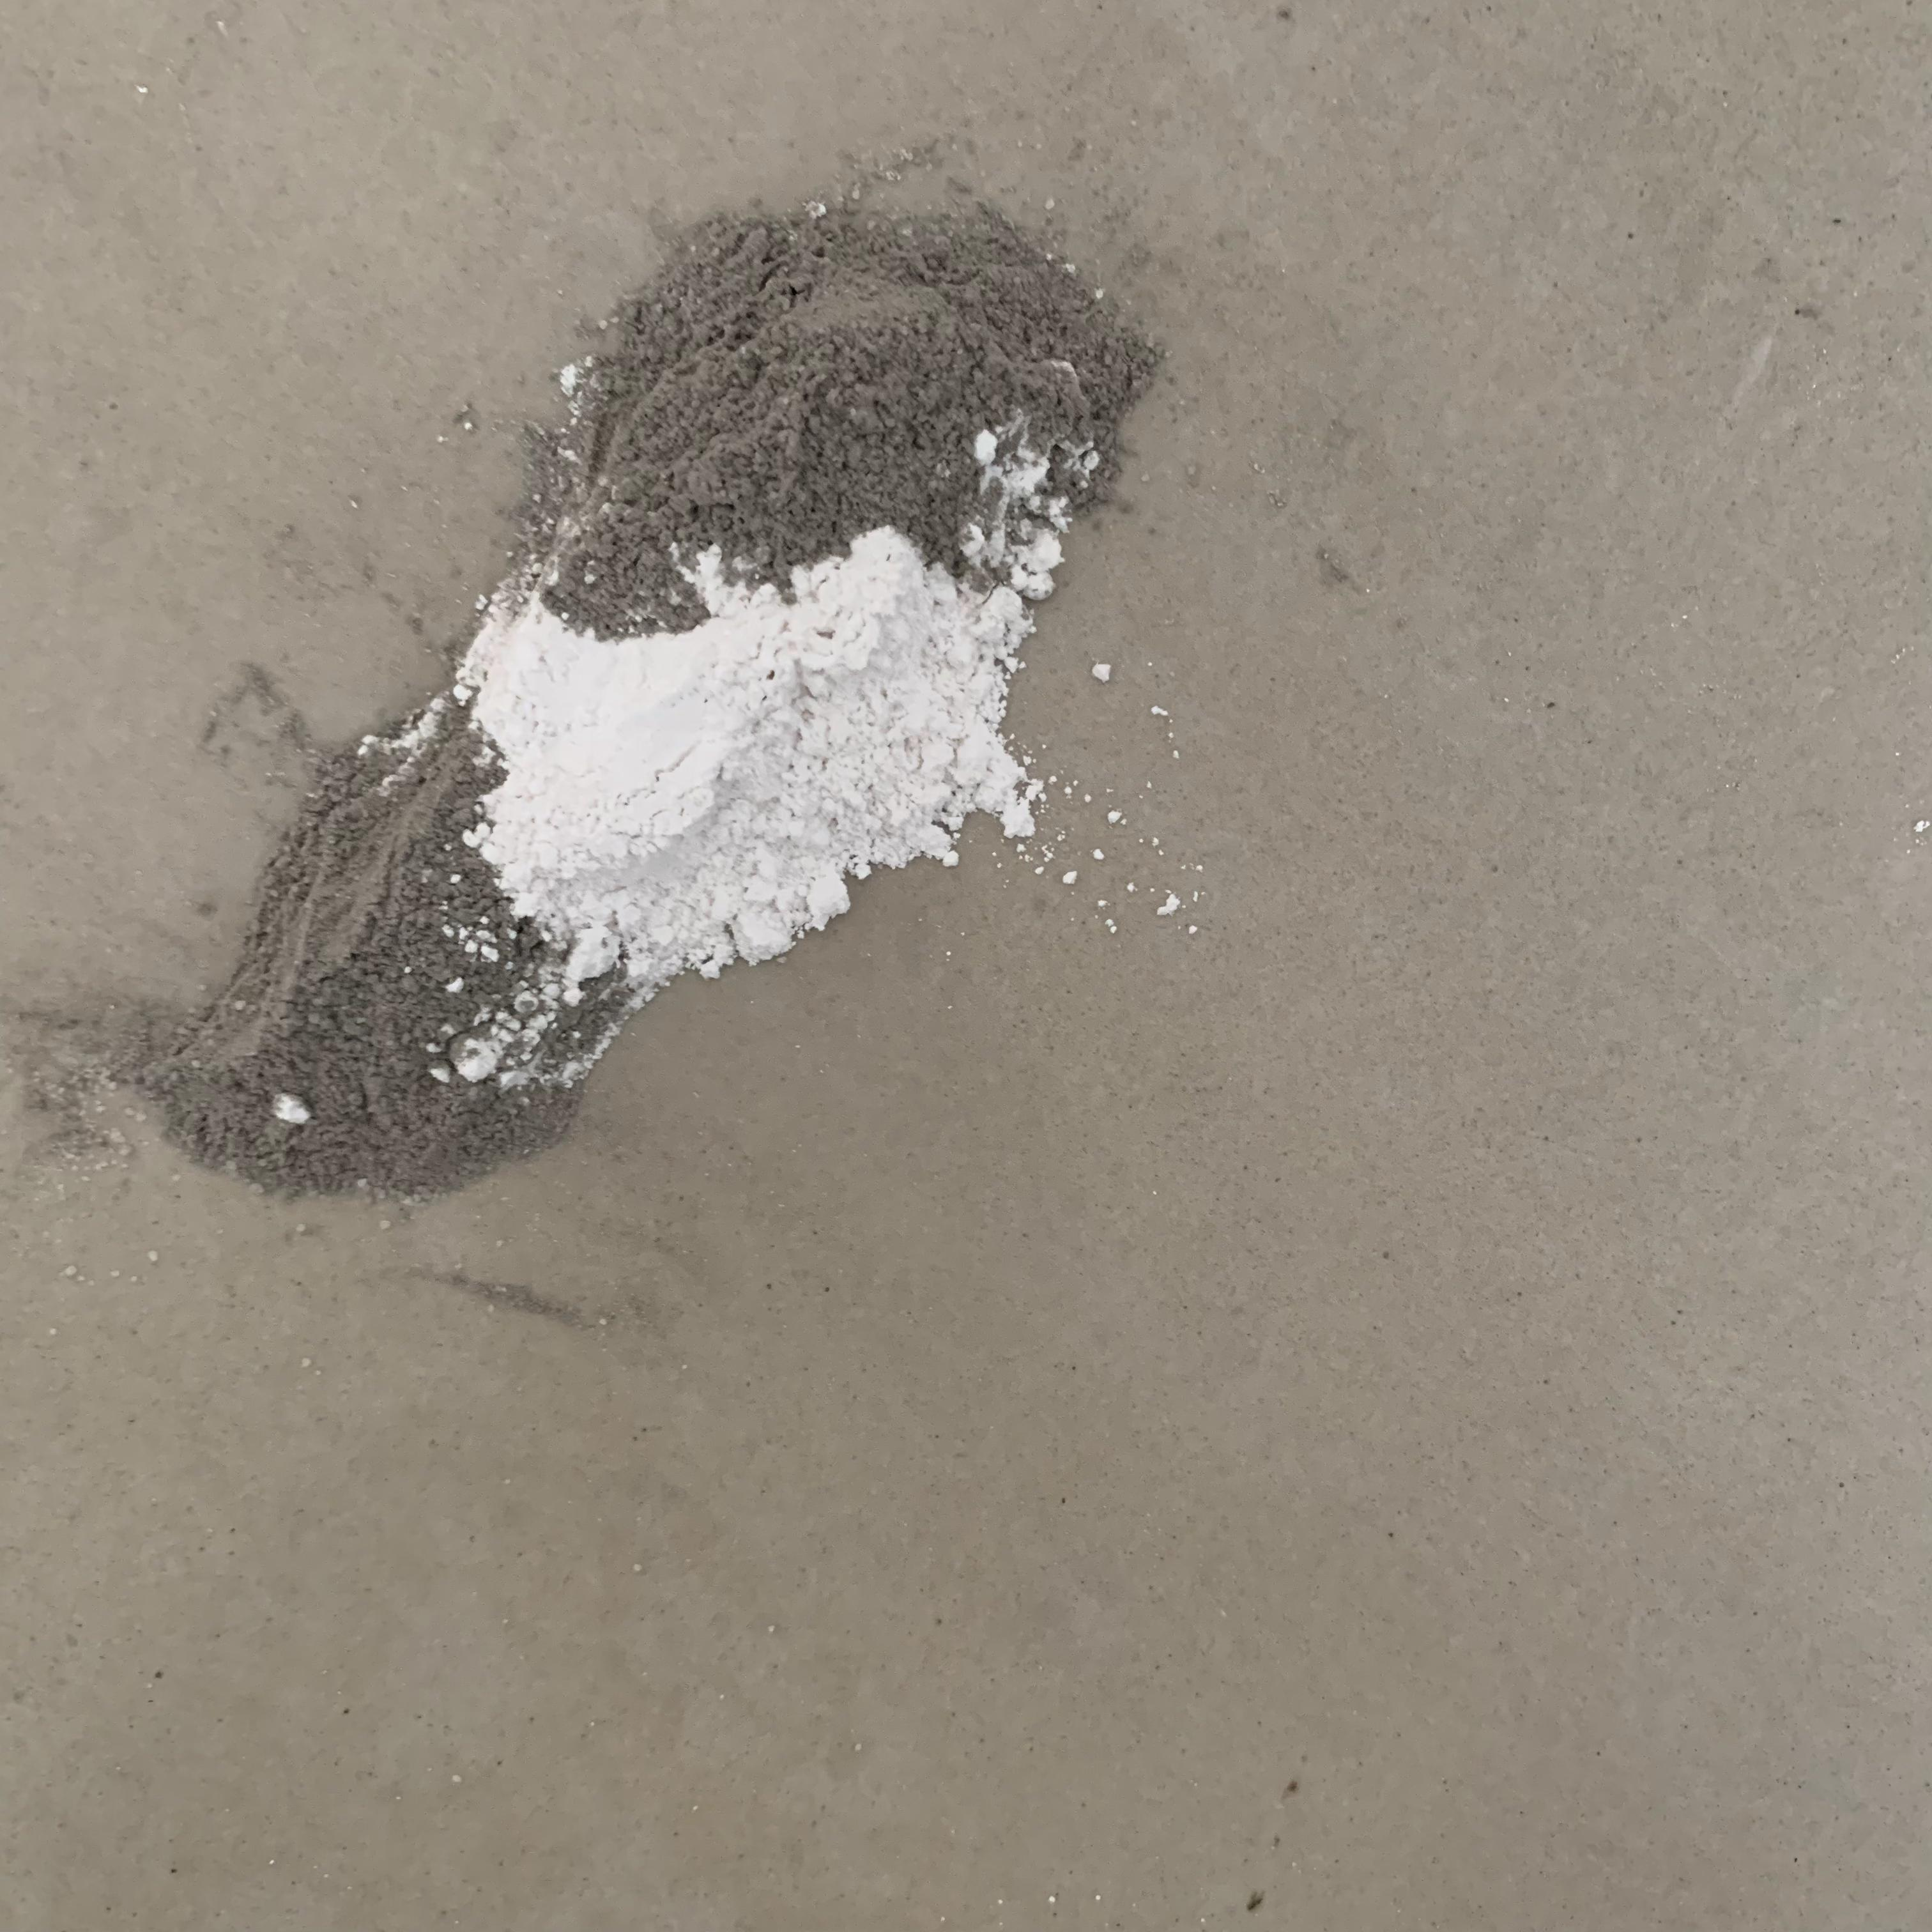ash pile: (0, 126, 1207, 1219)
